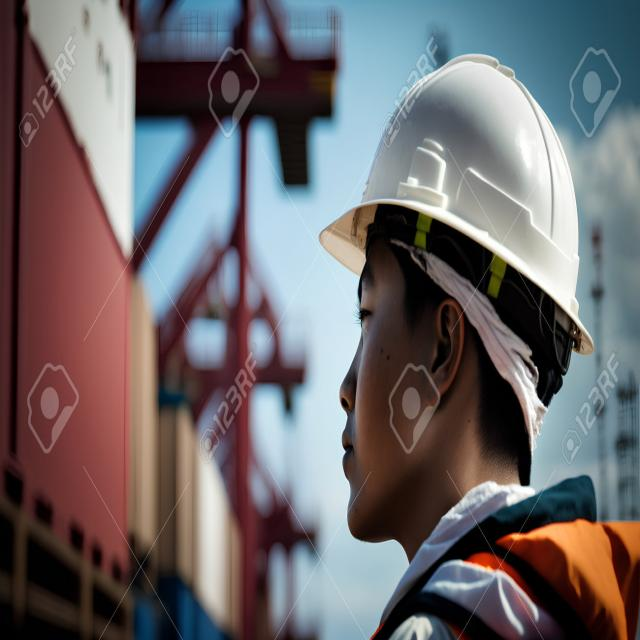helmet: (317, 44, 596, 399)
no-goggles: (329, 260, 455, 362)
